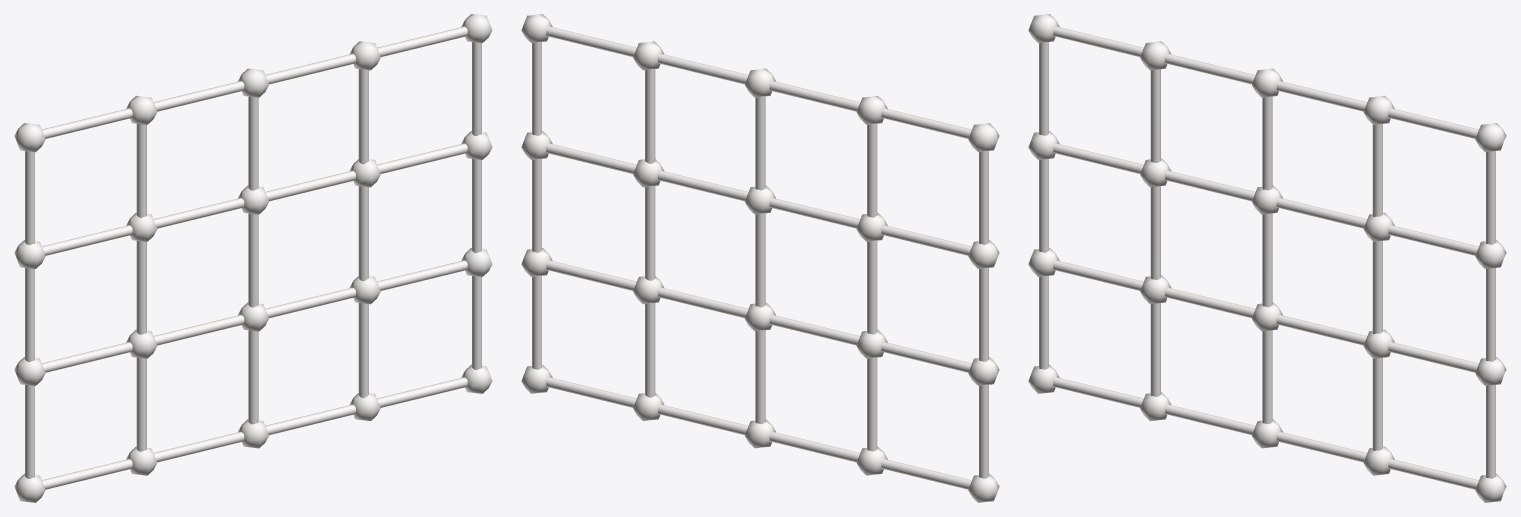
Rendered from Moodboard_1.glb.
3 views of the same model, side by side, from view 1: azimuth 30°, elevation 25°; view 2: azimuth 150°, elevation 25°; view 3: azimuth 330°, elevation 25° (orthographic).
Parts seen in each view (by area): view 1: Moodboard_1; view 2: Moodboard_1; view 3: Moodboard_1.
Boxes of the visible parts, x1,y1,x2,y2 form: Moodboard_1: (14,14,492,502); Moodboard_1: (521,14,999,502); Moodboard_1: (1028,14,1506,502).
Bounding box in the file's own units: 2.07 × 1.58 × 0.1166.
1 material, 1 textured.
